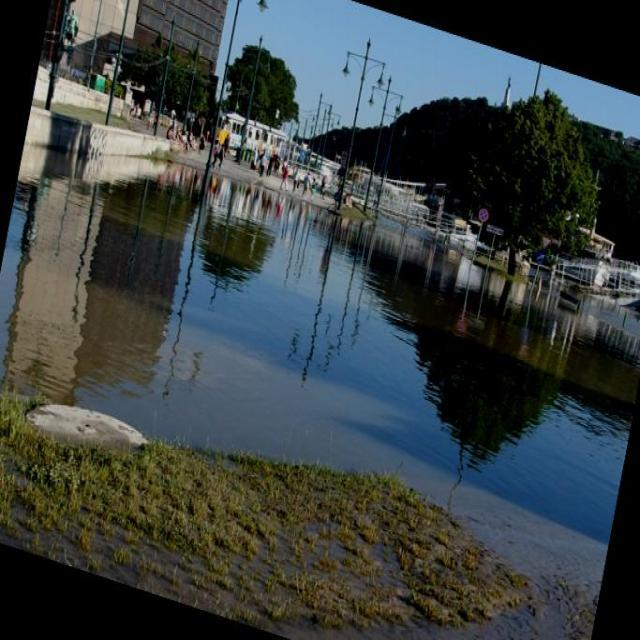flood: (0, 98, 639, 597)
